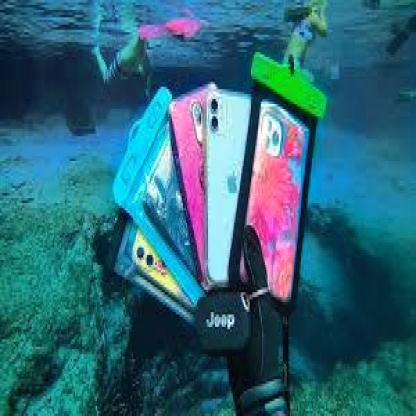cellphone: (168, 89, 236, 297), (244, 104, 308, 305), (204, 84, 256, 290)
